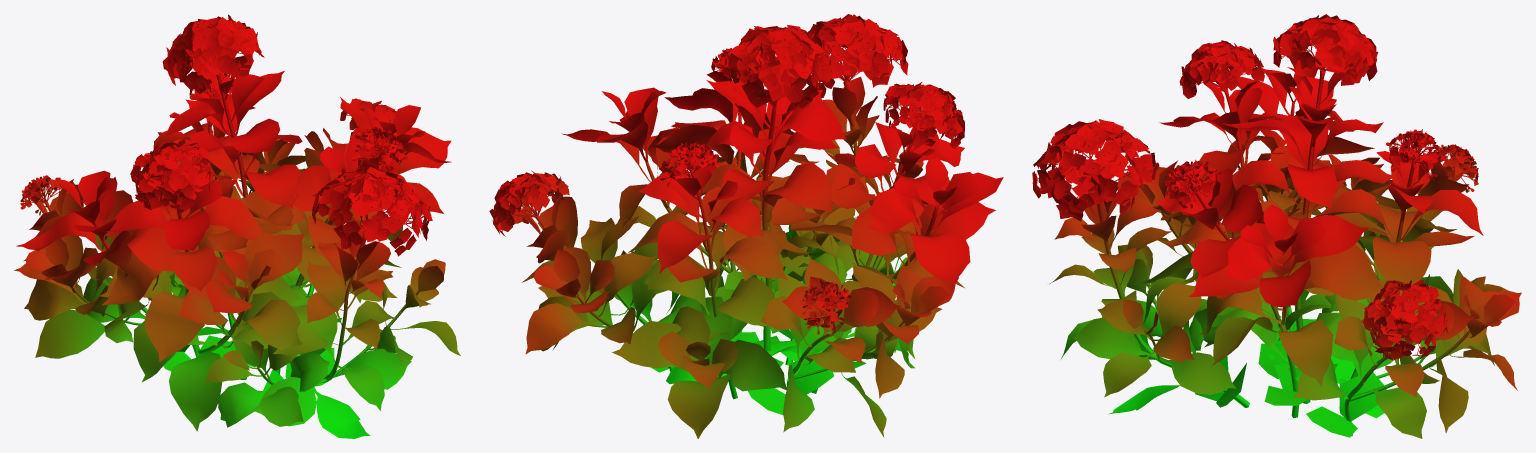
File: Var4_LOD2.fbx
3 renders of one model, left to right at view 1: azimuth 30°, elevation 25°; view 2: azimuth 150°, elevation 25°; view 3: azimuth 270°, elevation 25°, orthographic. The views are drawn at different scales.
Parts seen in each view (by area): view 1: _xgkm_Var4_LOD2; view 2: _xgkm_Var4_LOD2; view 3: _xgkm_Var4_LOD2.
Boxes of the visible parts, x1=… form: _xgkm_Var4_LOD2: x1=14, y1=14, x2=460, y2=438; _xgkm_Var4_LOD2: x1=489, y1=14, x2=1003, y2=438; _xgkm_Var4_LOD2: x1=1032, y1=14, x2=1521, y2=438.
Size of the model in its own units: 129 by 106 by 125.
